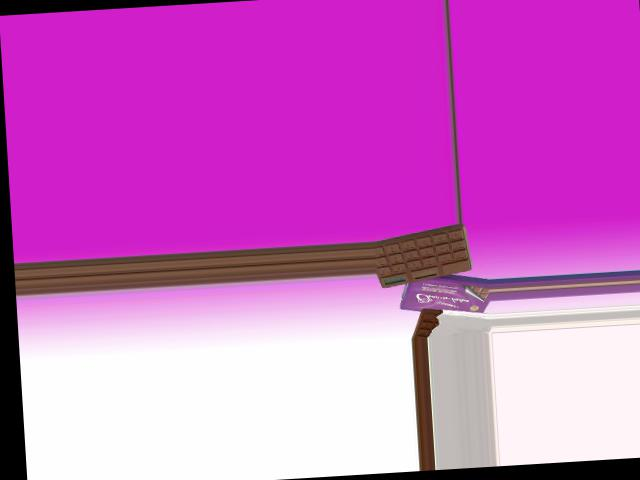chocolate: (377, 222, 471, 290)
